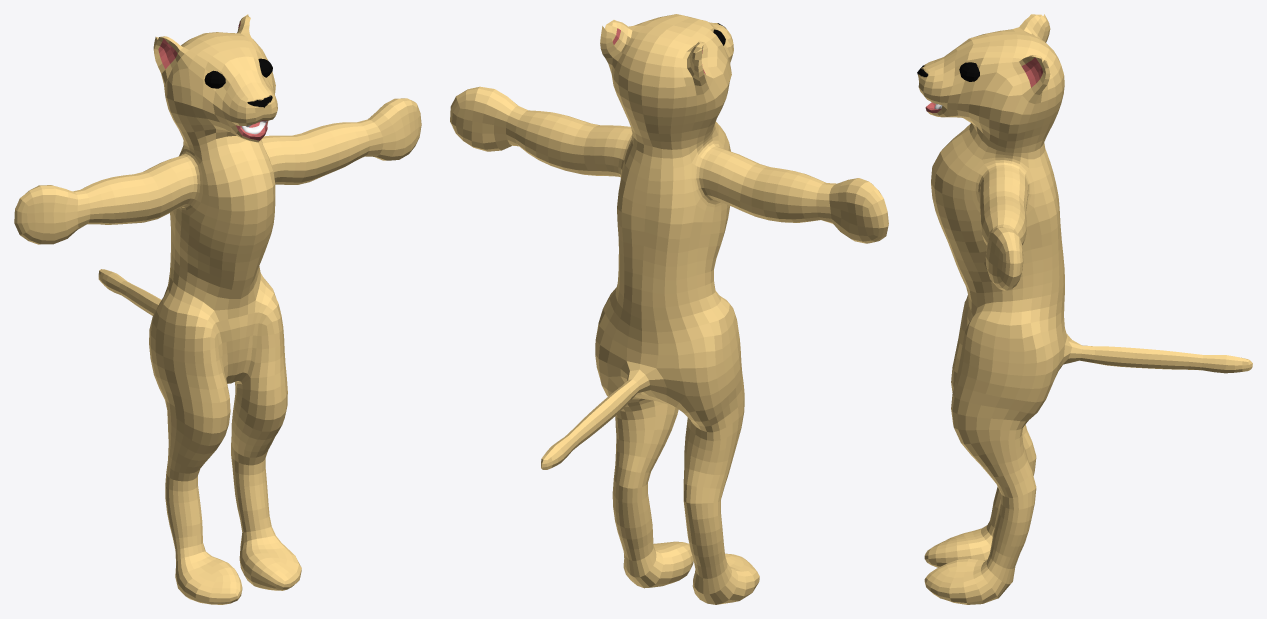
The model's file is Unwrapped_Female_Lion.fbx.
3 views of the same model, side by side, from view 1: azimuth 30°, elevation 25°; view 2: azimuth 150°, elevation 25°; view 3: azimuth 270°, elevation 25° (orthographic). The views are drawn at different scales.
Visible parts, largest first — view 1: lion_female:Group61565; view 2: lion_female:Group61565; view 3: lion_female:Group61565.
Part boxes in pixels (left/top/right/bottom): lion_female:Group61565: left=14, top=14, right=421, bottom=604; lion_female:Group61565: left=450, top=14, right=888, bottom=604; lion_female:Group61565: left=917, top=14, right=1252, bottom=604.
Bounding box in the file's own units: 3.68 × 4.67 × 2.59.
